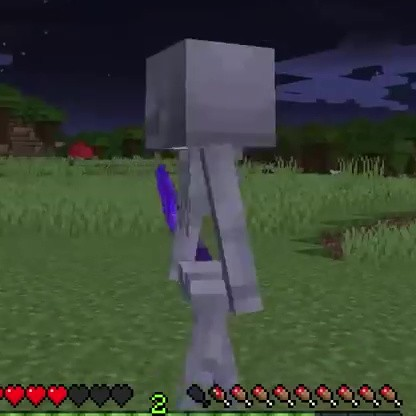skeleton: (139, 34, 277, 379)
